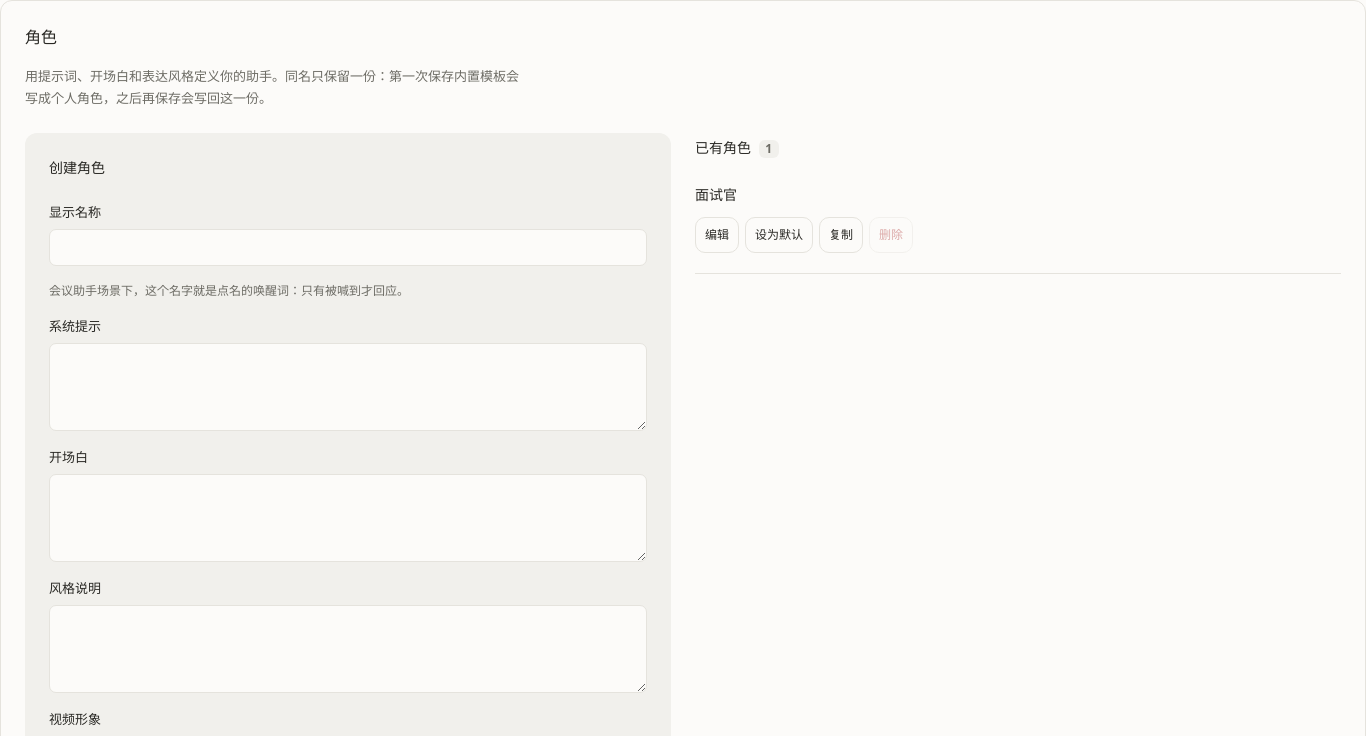
it: RoleEditor › says a saved built-in role became a personal copy and the current role
Click the button with aria-label "编辑 面试官" at (717, 235), box x1=695 y1=217 x2=739 y2=253
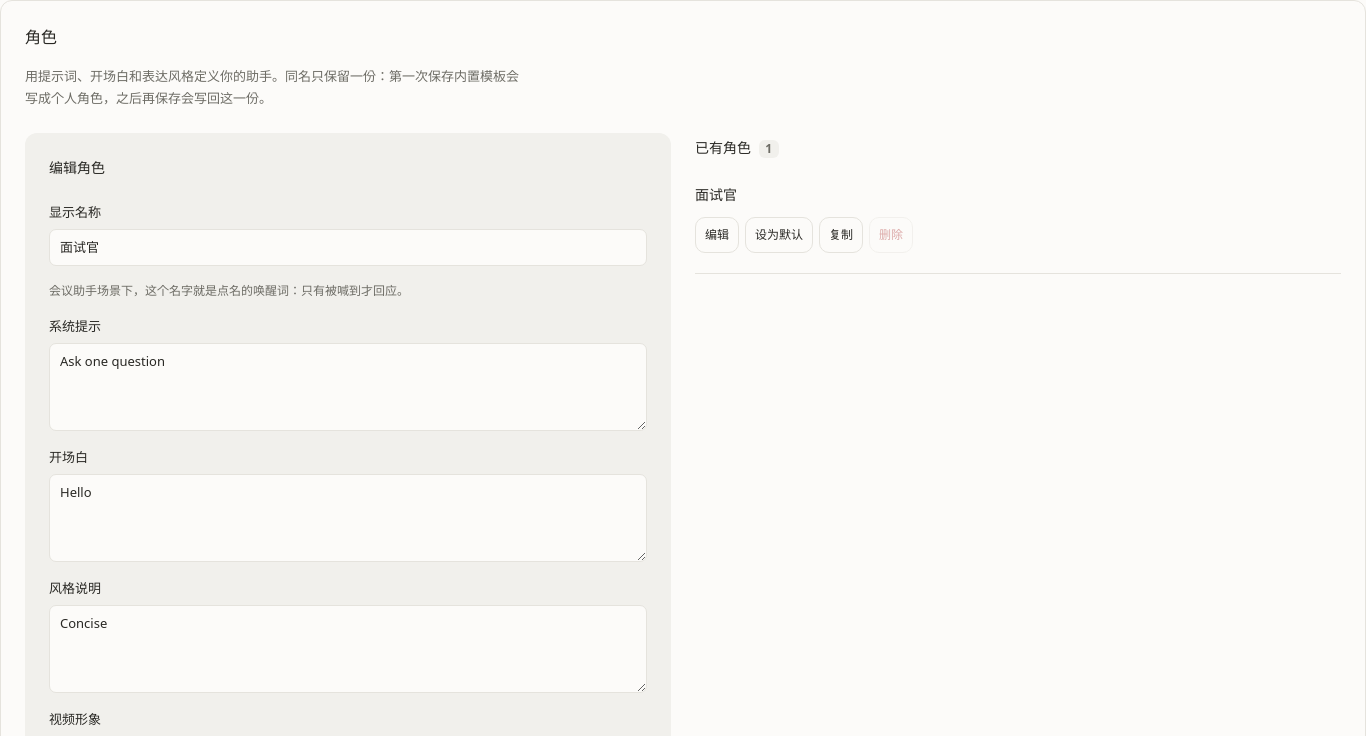
Replace the text in the text box labelled "系统提示" with "改过的提示" at (348, 387), box x1=49 y1=343 x2=647 y2=431
(page scrolled)
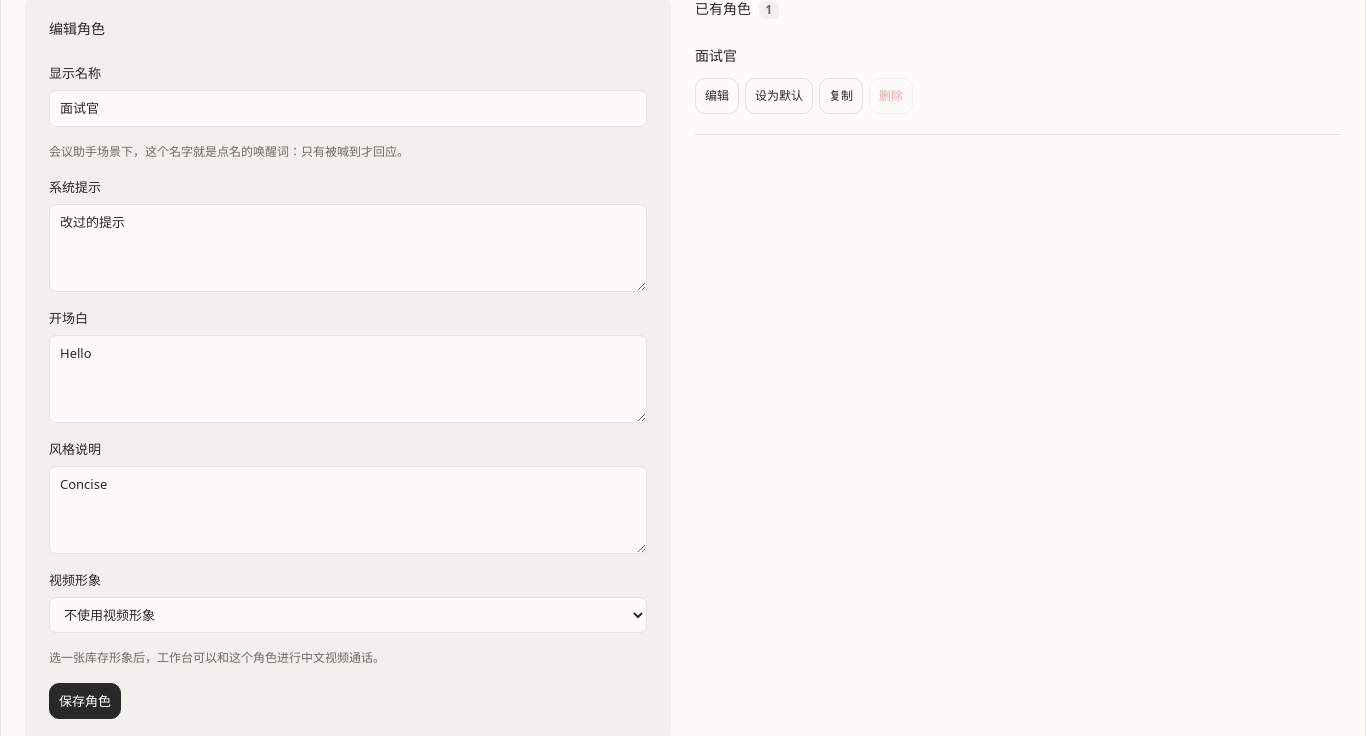
Click the button "保存角色" at (85, 701), box x1=49 y1=683 x2=121 y2=719
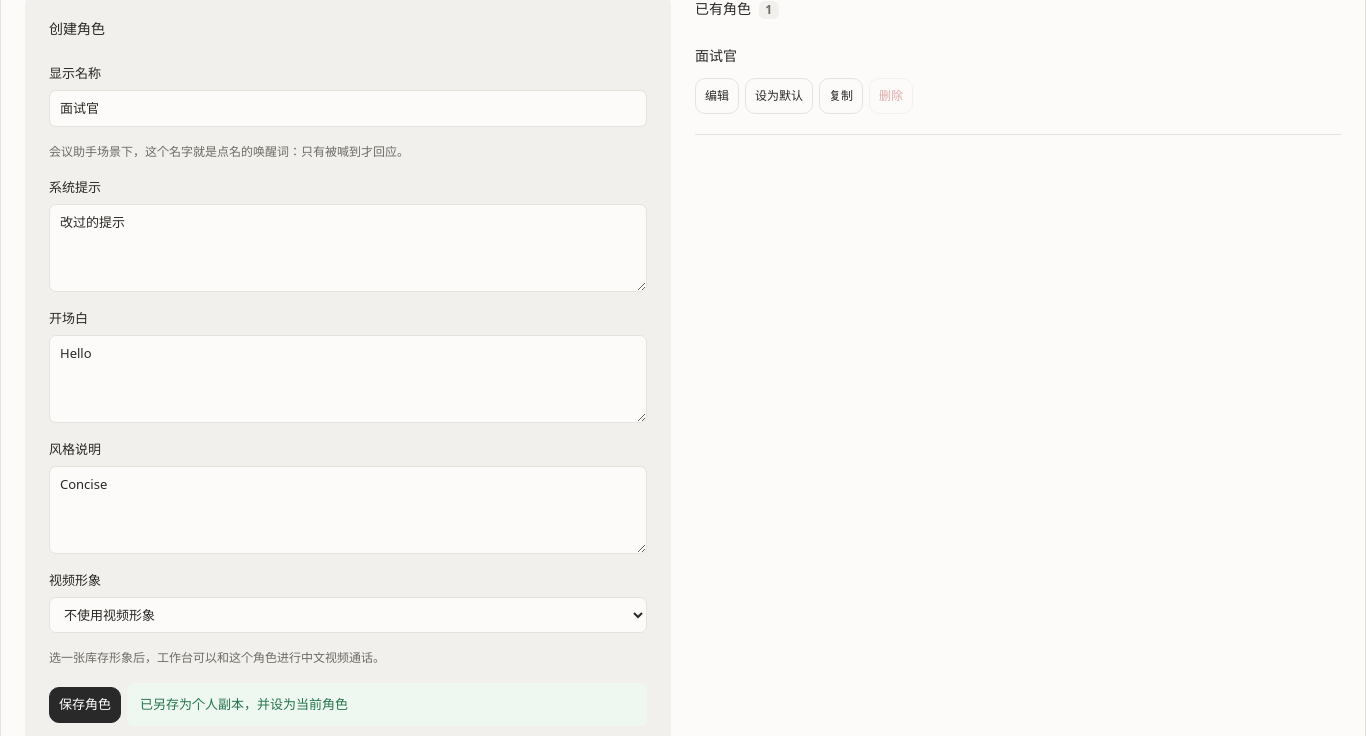
Check: the message reads "已另存为个人副本，并设为当前角色", box x1=140 y1=695 x2=348 y2=713
